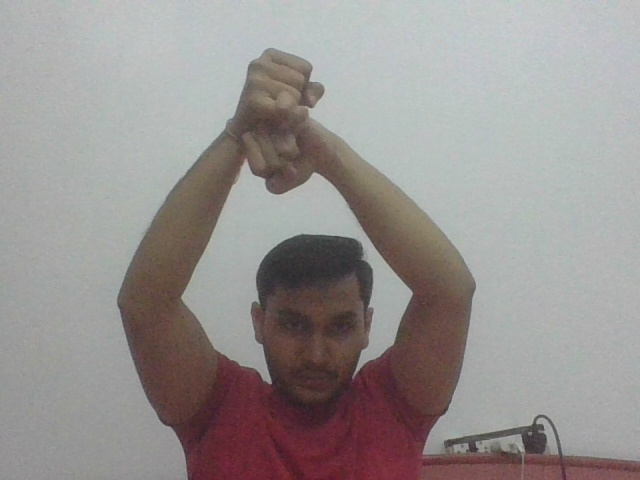S: (232, 37, 331, 195)
